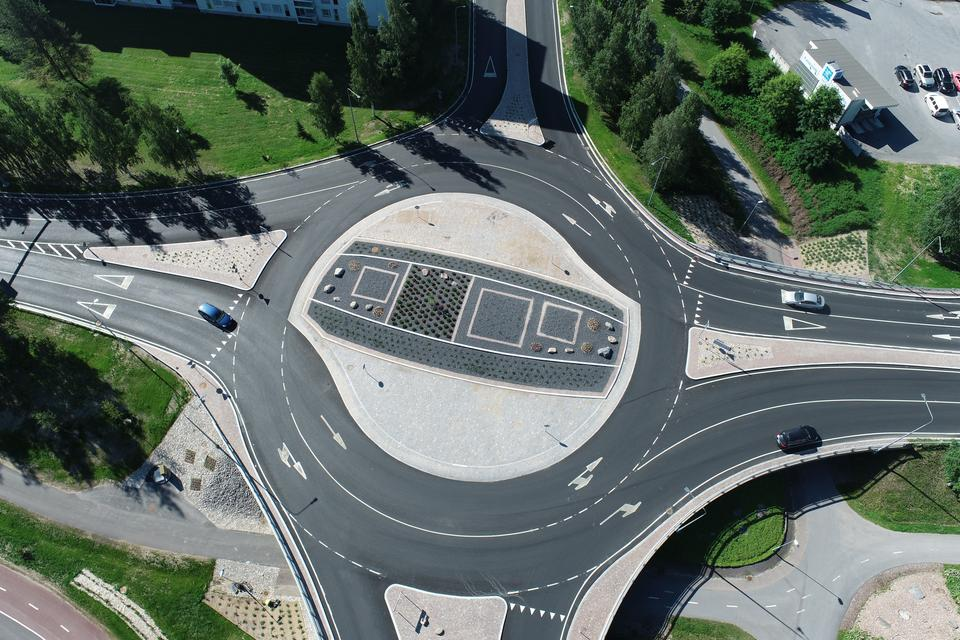roundabout: (190, 83, 737, 640)
